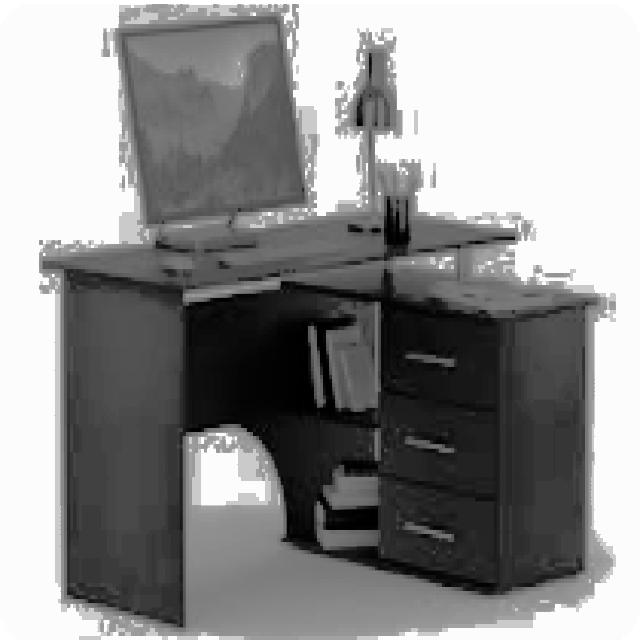table: (40, 208, 597, 628)
